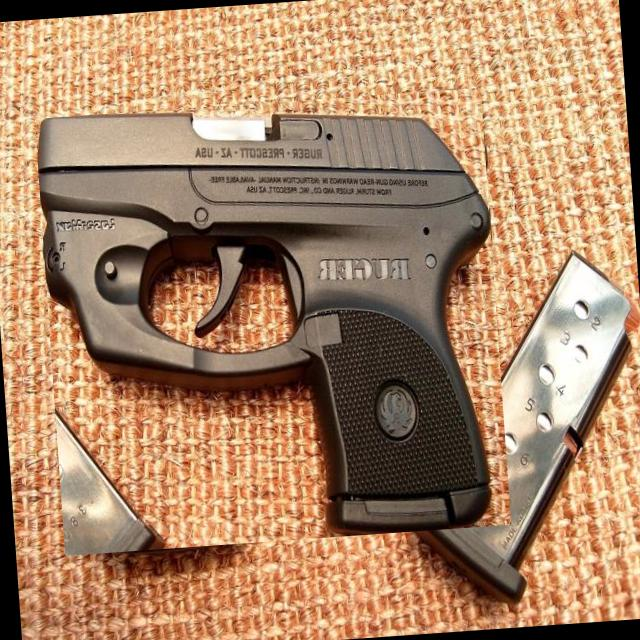Gun: (38, 115, 490, 531)
